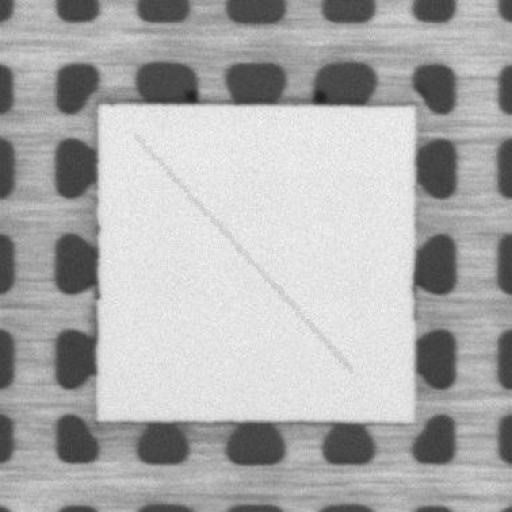DIE_CRACK: (134, 134, 350, 370)
